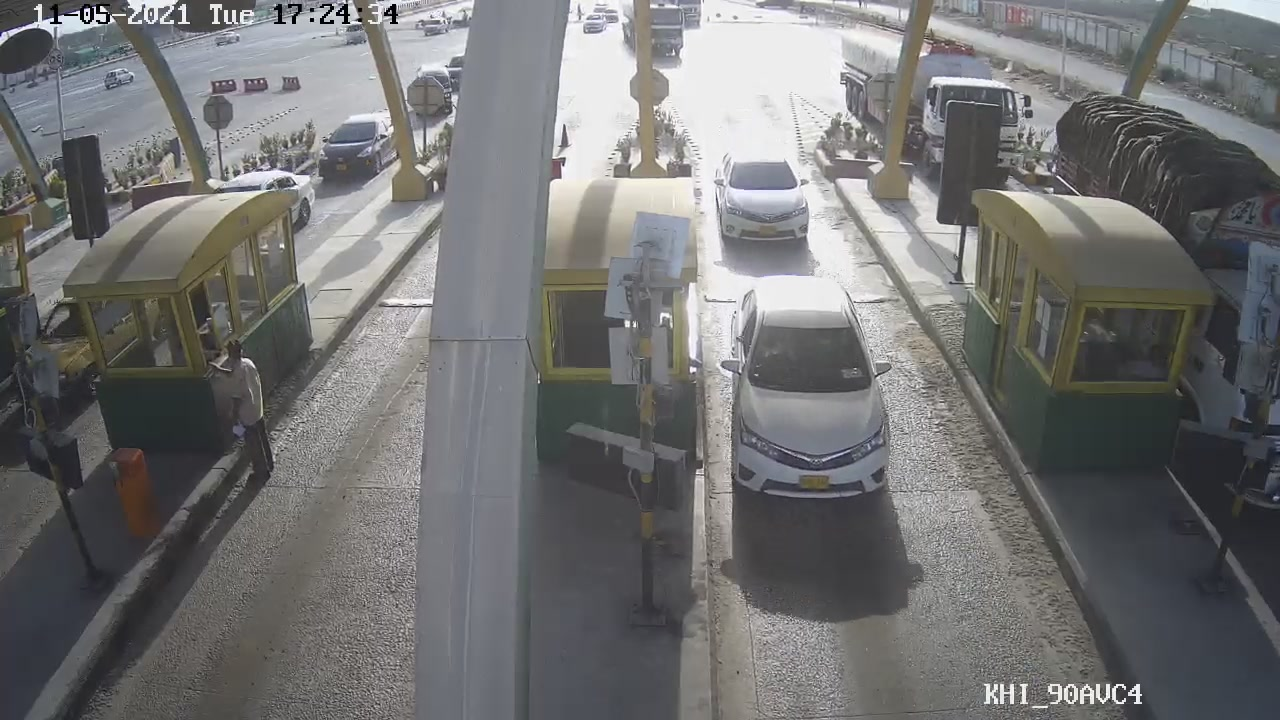F1: (712, 273, 907, 505), (707, 142, 813, 248)
